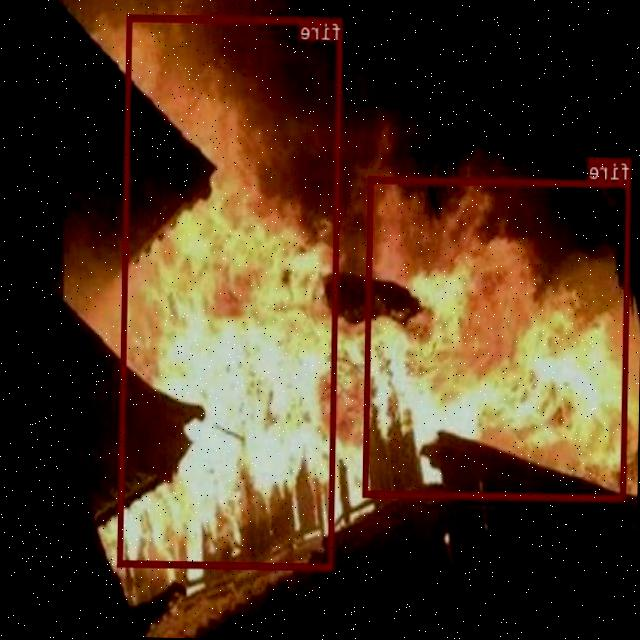fire: (118, 14, 344, 568), (363, 175, 632, 500)
